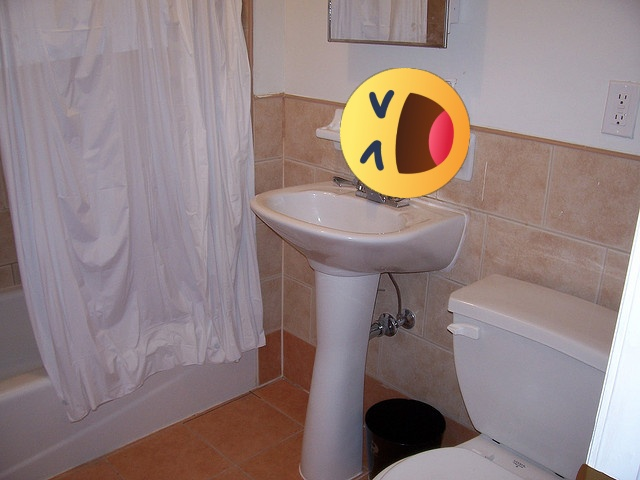haha: (340, 68, 470, 198)
